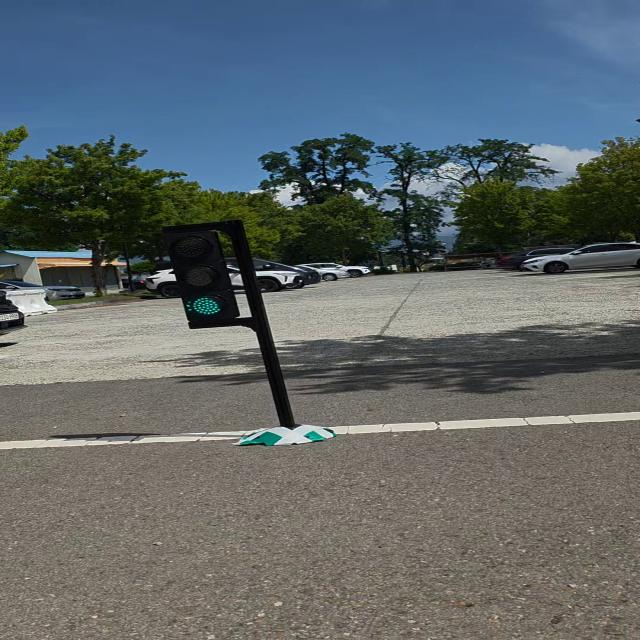green: (158, 226, 248, 325)
